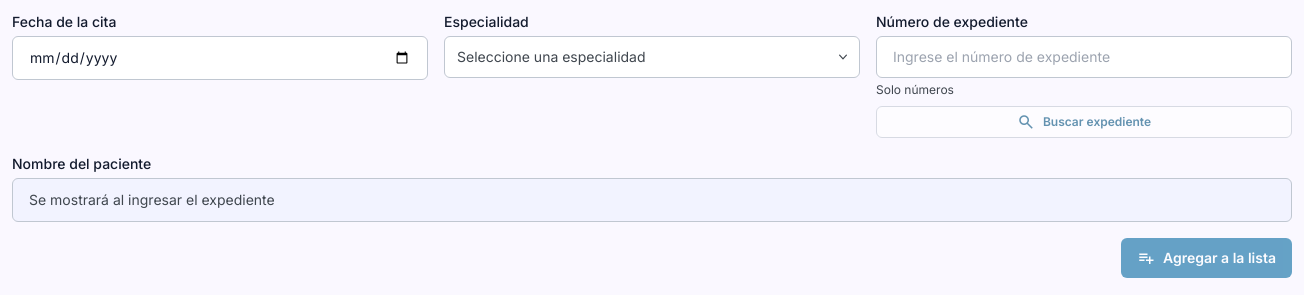
Test: FormularioCita › muestra "Expediente no encontrado" ante 404 (null)
The width and height of the screenshot is (1304, 295).
Step 1. Type "999999999999" into the field labelled "Número de expediente Solo números" → (1084, 57), box [876,36,1292,78]
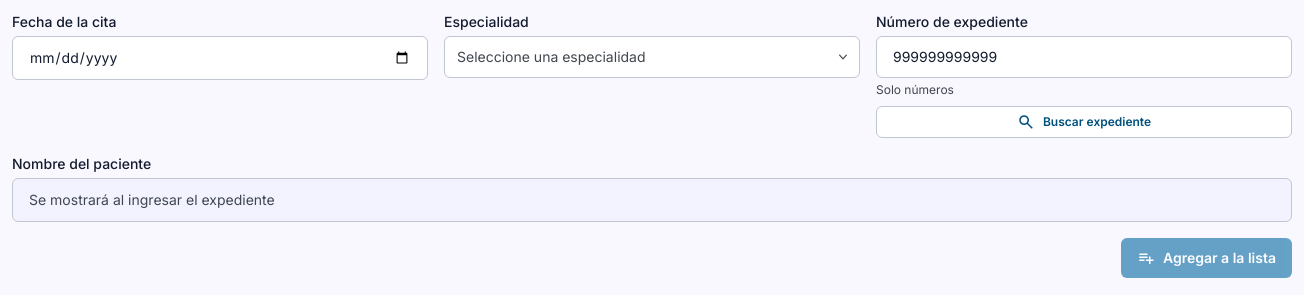
Step 2. Click the button "Buscar expediente" → (1084, 122), box [876,106,1292,138]
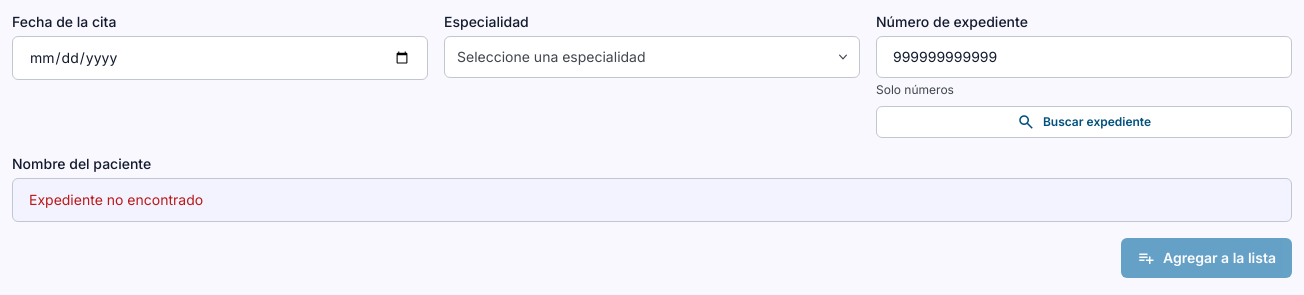
Now the text "Expediente no encontrado" is shown, box [29,190,203,210]
